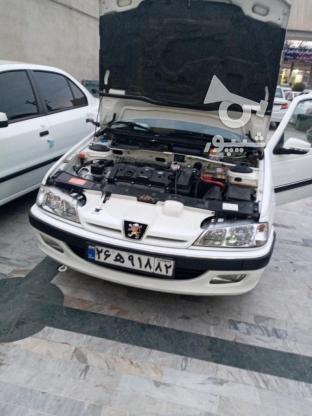car: (86, 241, 174, 279)
